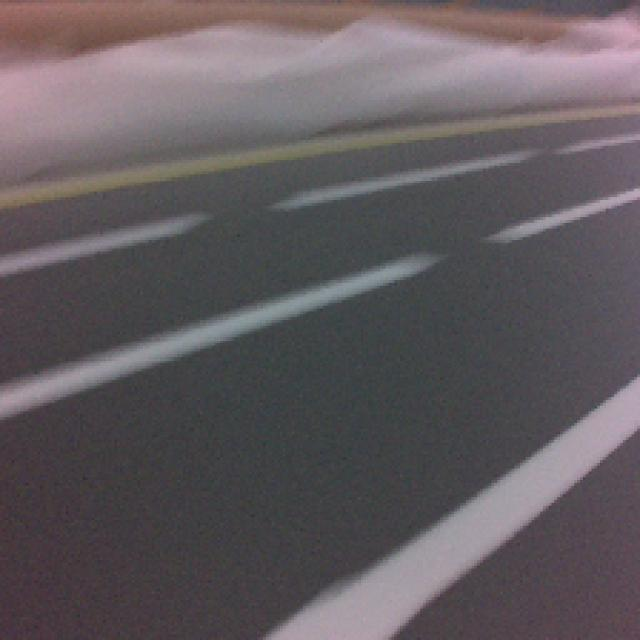Guard rail: (273, 375, 640, 638)
